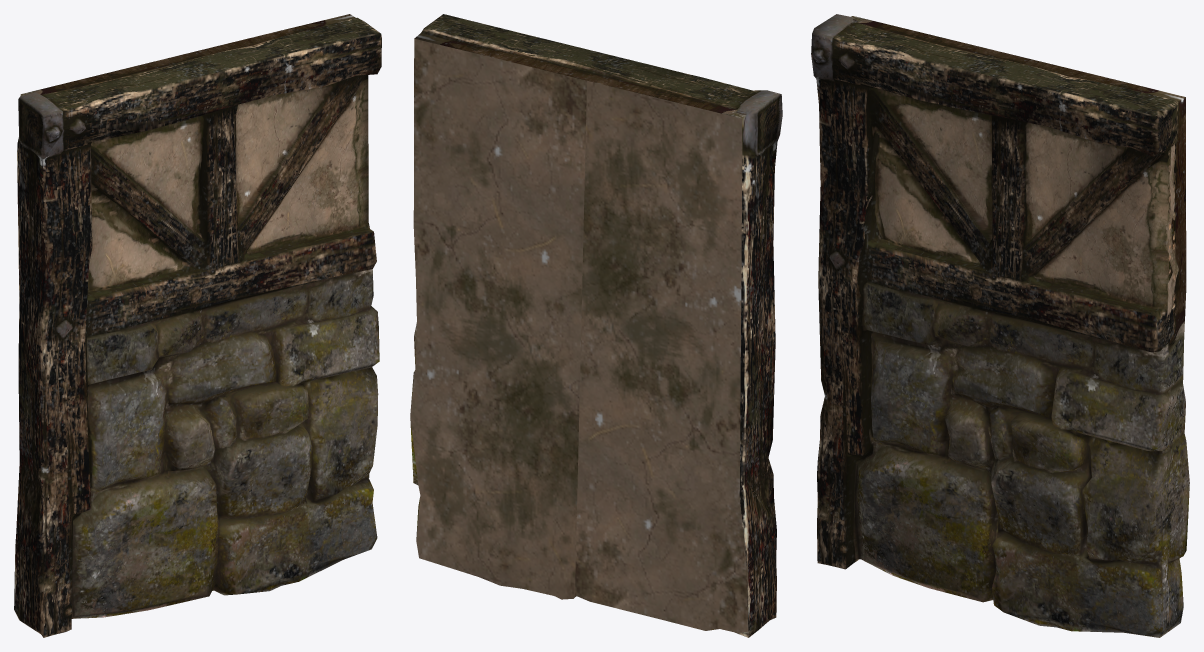
File: Medieval_WallTall_StoneWindowBase.FBX
3 renders of one model, left to right at view 1: azimuth 30°, elevation 25°; view 2: azimuth 150°, elevation 25°; view 3: azimuth 330°, elevation 25°, orthographic.
Visible parts, largest first — view 1: Medieval_WallTall_StoneWindowBase_LOD0; view 2: Medieval_WallTall_StoneWindowBase_LOD0; view 3: Medieval_WallTall_StoneWindowBase_LOD0.
Part boxes in pixels (bbox=[...]): Medieval_WallTall_StoneWindowBase_LOD0: bbox=[14, 14, 381, 637]; Medieval_WallTall_StoneWindowBase_LOD0: bbox=[410, 14, 782, 637]; Medieval_WallTall_StoneWindowBase_LOD0: bbox=[811, 14, 1189, 637].
Size of what is drawn, in the model's own units: 3.1 by 4.6 by 0.5751.
